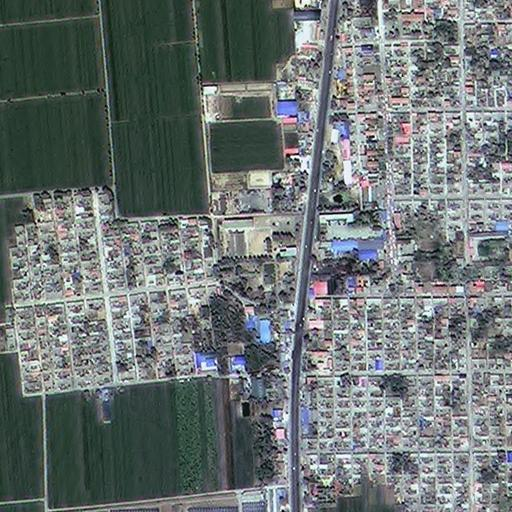school: (213, 215, 298, 291), (311, 208, 385, 249)
